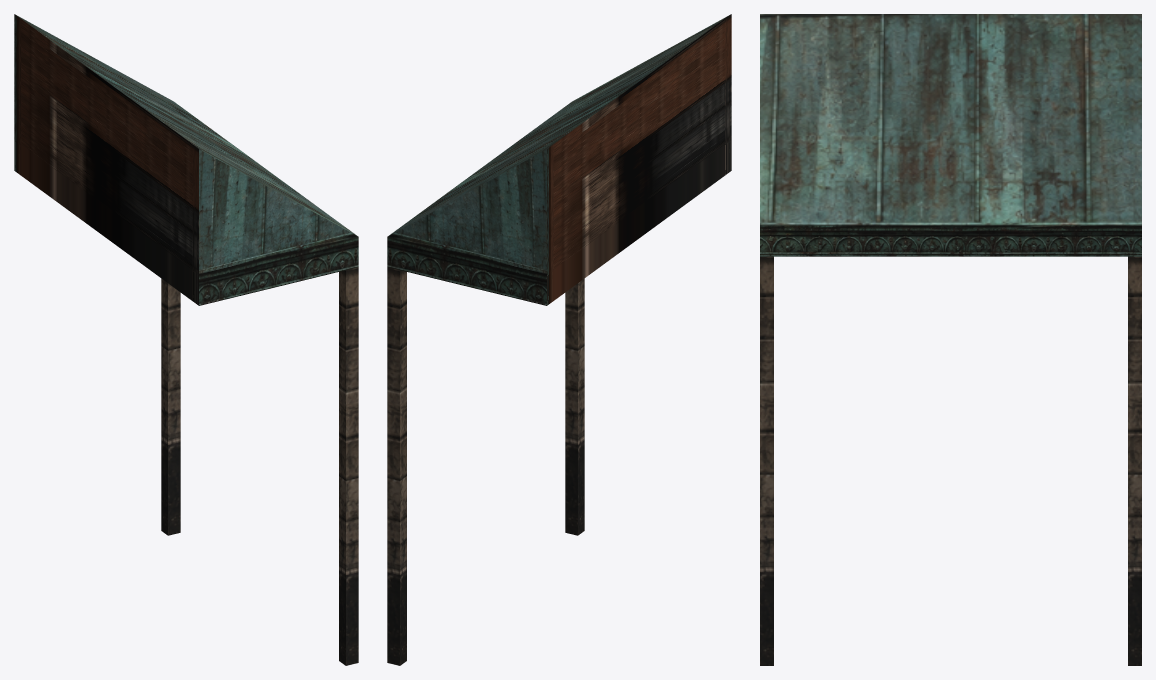
File: B13_Roof01.fbx
3 views of the same model, side by side, from view 1: azimuth 30°, elevation 25°; view 2: azimuth 150°, elevation 25°; view 3: azimuth 270°, elevation 25° (orthographic). The views are drawn at different scales.
Visible parts, largest first — view 1: B13_Roof01; view 2: B13_Roof01; view 3: B13_Roof01.
Part boxes in pixels (box(x1,y1,x2,y2)): B13_Roof01: box(14, 14, 358, 665); B13_Roof01: box(387, 14, 731, 665); B13_Roof01: box(760, 14, 1141, 665).
Bounding box in the file's own units: 0.4532 × 1.5 × 0.909.
